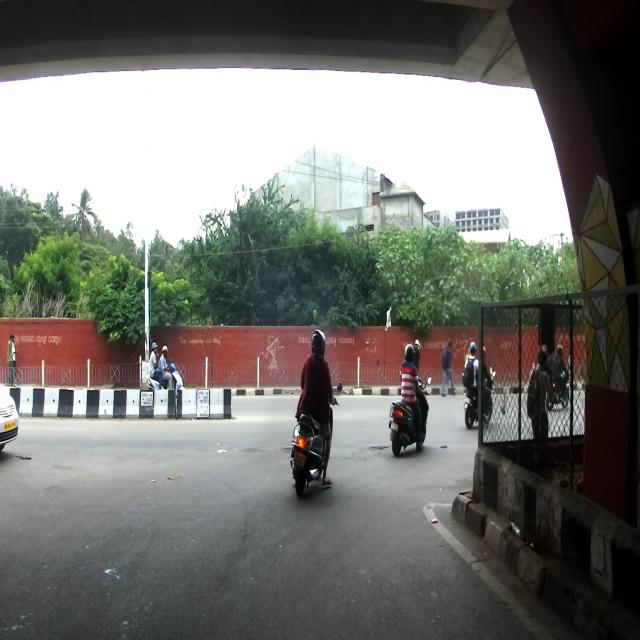motorcycle: (462, 369, 496, 429)
scooter: (288, 380, 342, 502), (389, 375, 431, 456)
